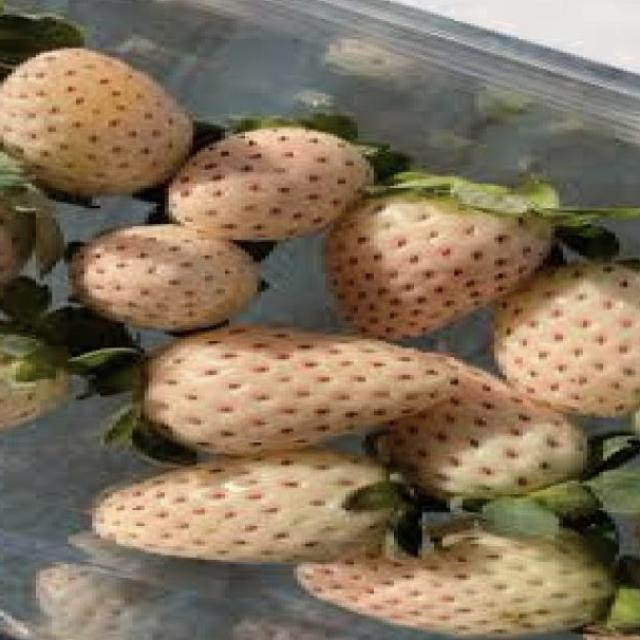Healthy Fruit: (322, 176, 547, 346), (140, 332, 460, 447), (296, 530, 620, 640), (92, 453, 403, 565), (1, 47, 191, 193), (170, 120, 371, 237), (496, 263, 639, 415), (66, 226, 259, 333)
